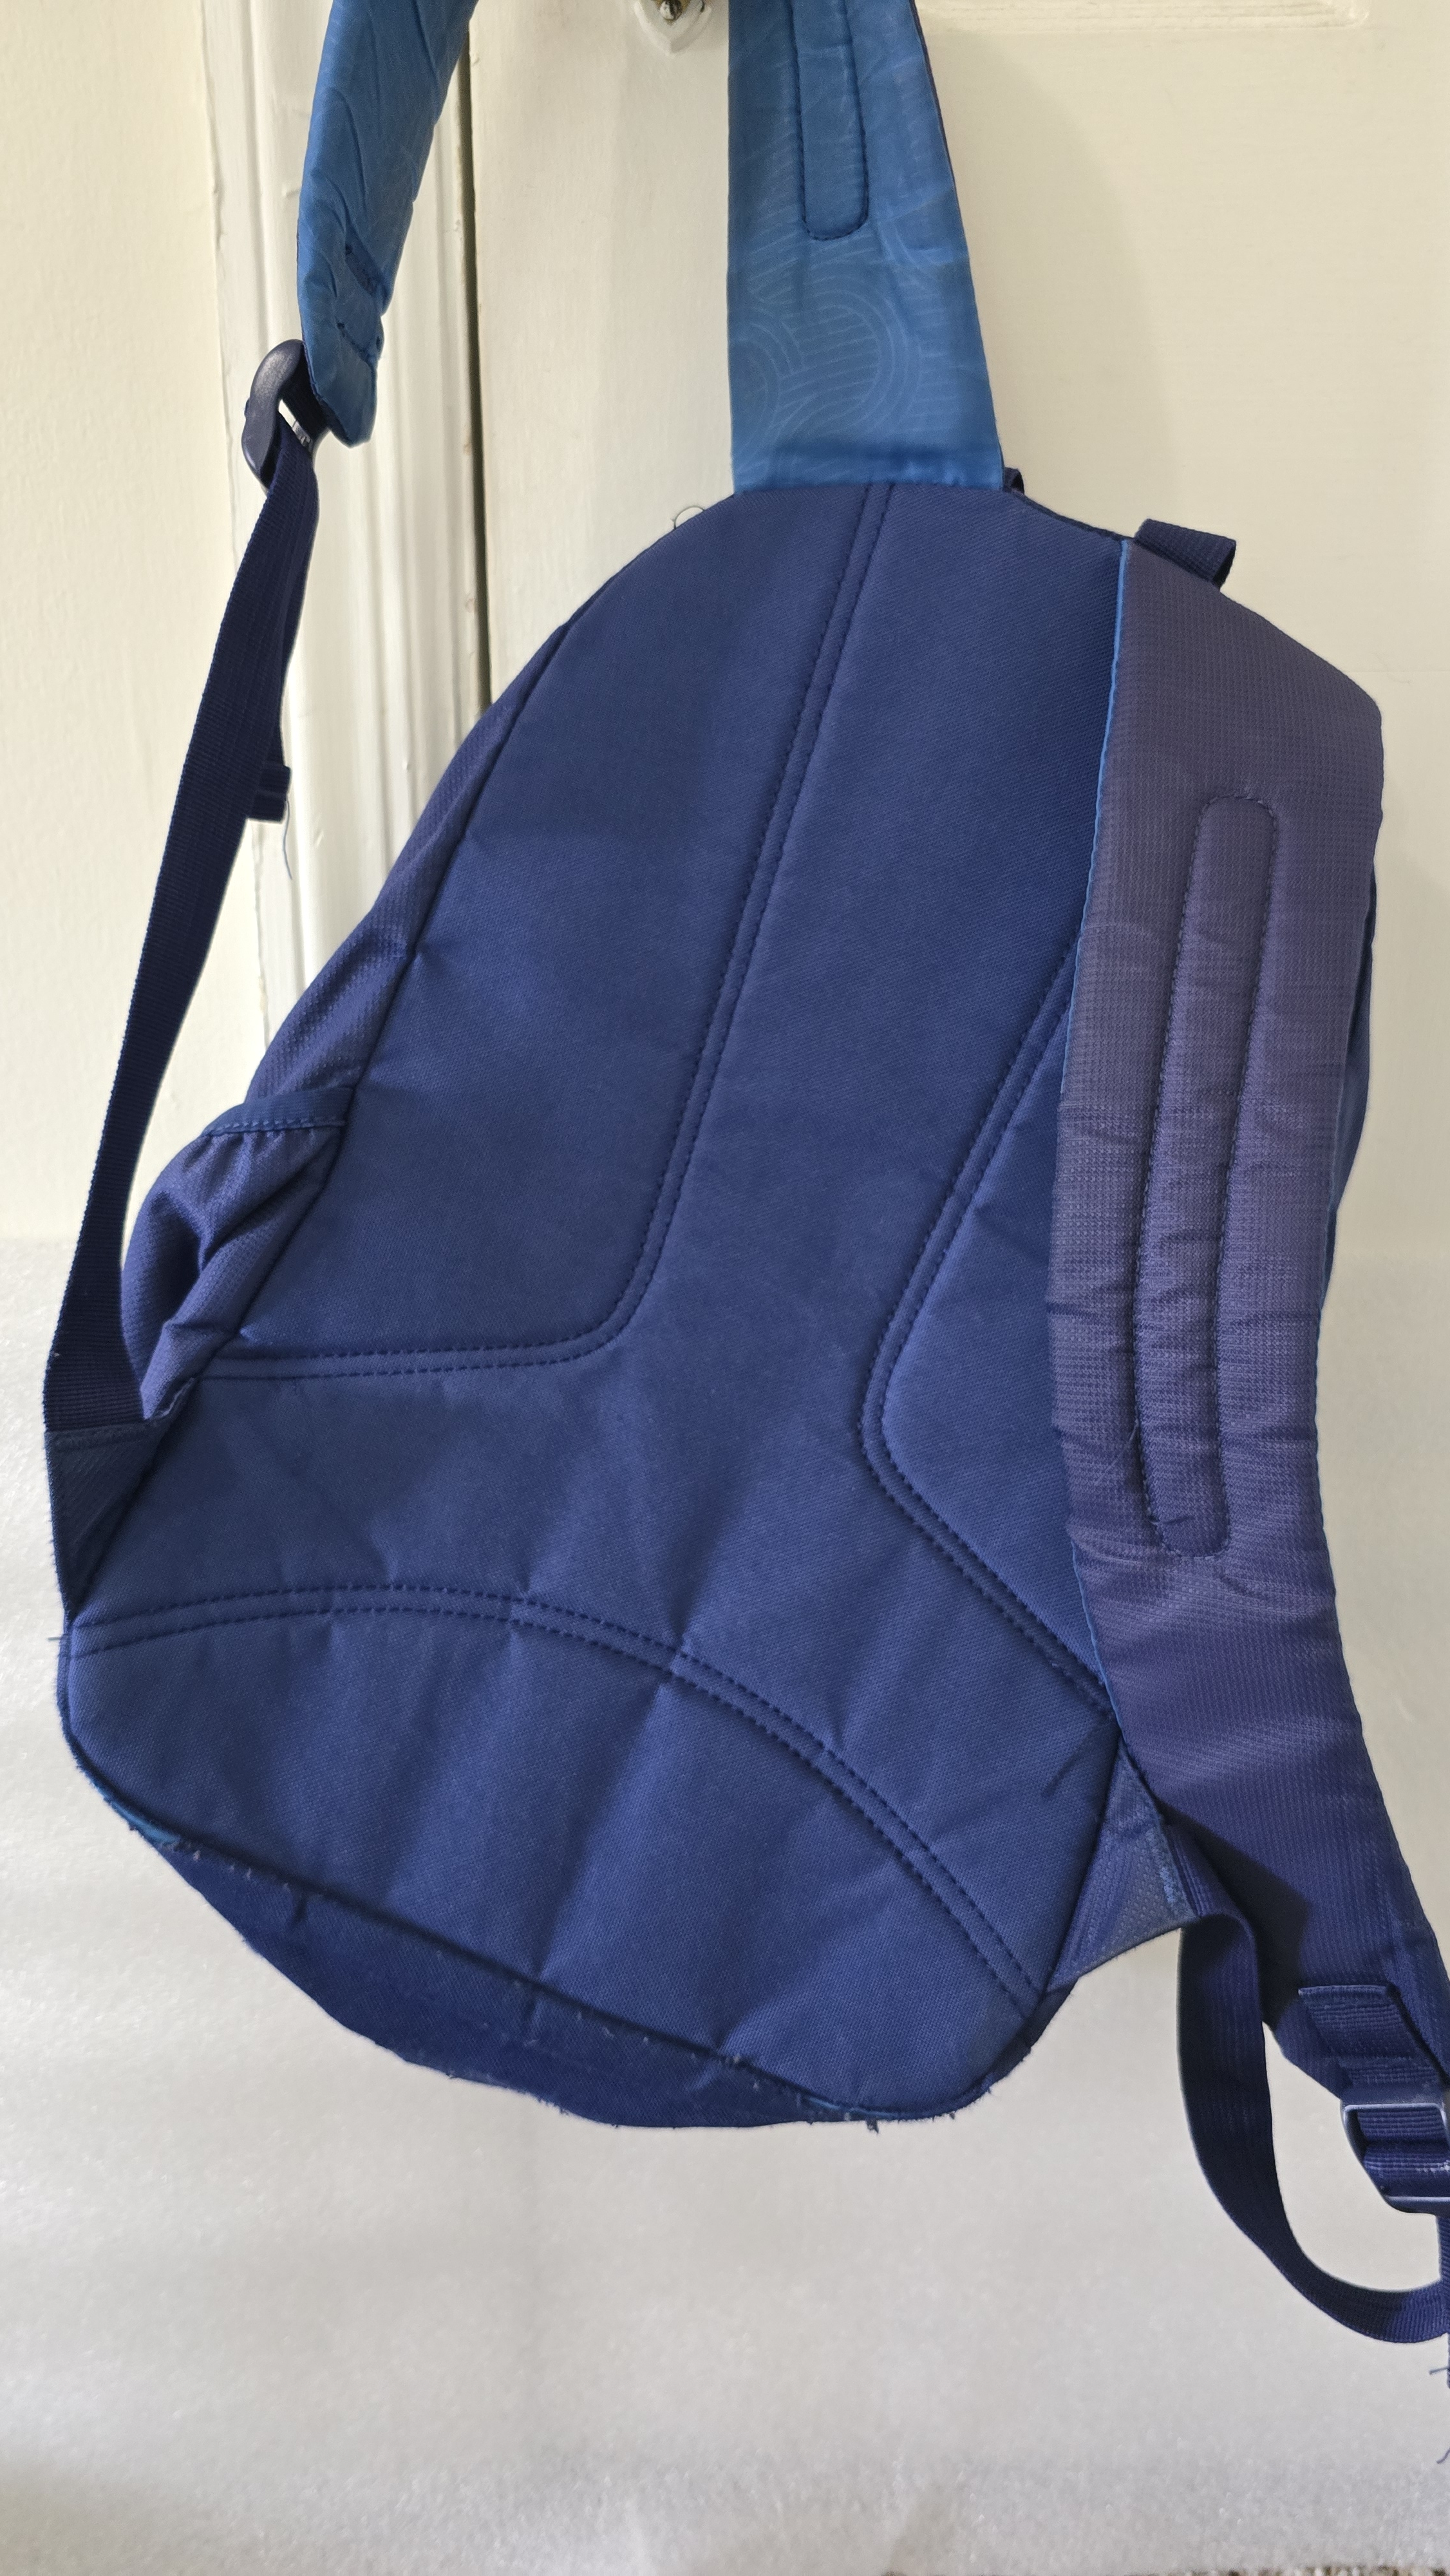bag: (157, 80, 1450, 2340)
